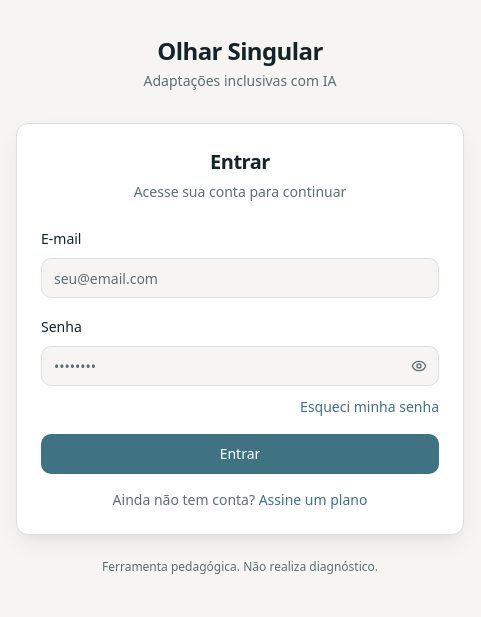
Test: AuthPage (login only) › shows the fallback error when the login error has no message
In the field labelled "E-mail": [240, 278] box [41,258,439,298], type "a@b.com"
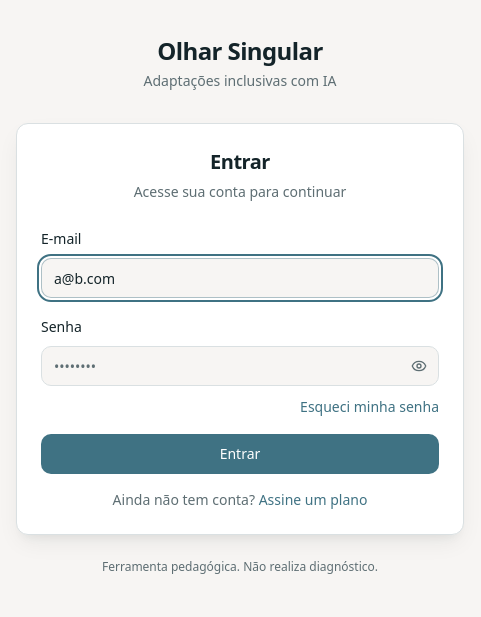
In the password field labelled "Senha": [240, 366] box [41,346,439,386], type "123456"
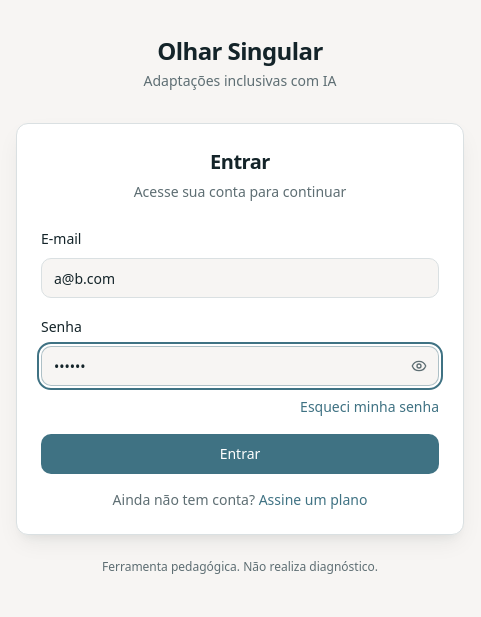
Click the button "Entrar": [240, 454] box [41,434,439,474]
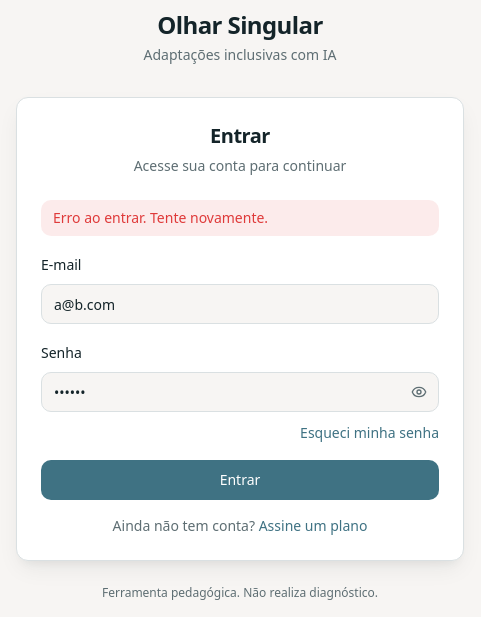
Result: the message shows "Erro ao entrar" at [53,208,268,227]
